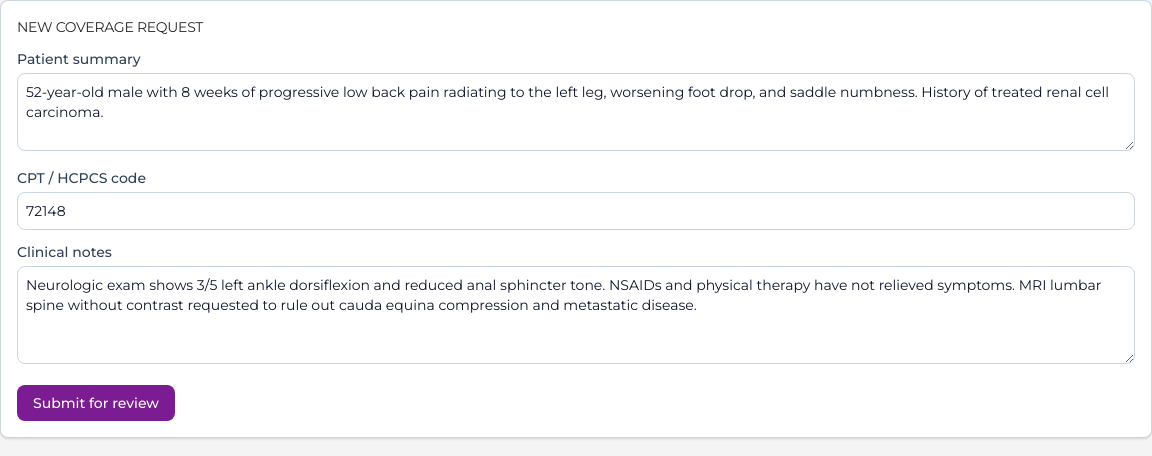
Test: RequestForm collapse (M5) › submit succeeds -> compact summary strip with CPT + 'New review' replaces the form
Click the button with test id "submit-button". click: (96, 403)
box: [17,385,175,421]
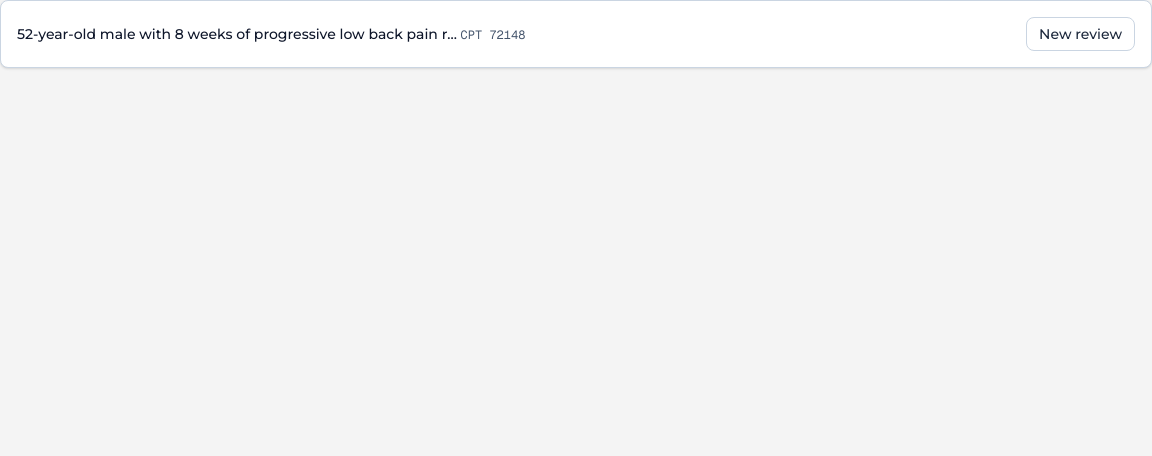
Expected: the button "New review" is shown, [1026,17,1135,51]
Expected: the text "CPT 72148" is shown, [461,27,525,43]
Expected: the text "52-year-old male with 8 weeks" is shown, [17,25,457,43]
